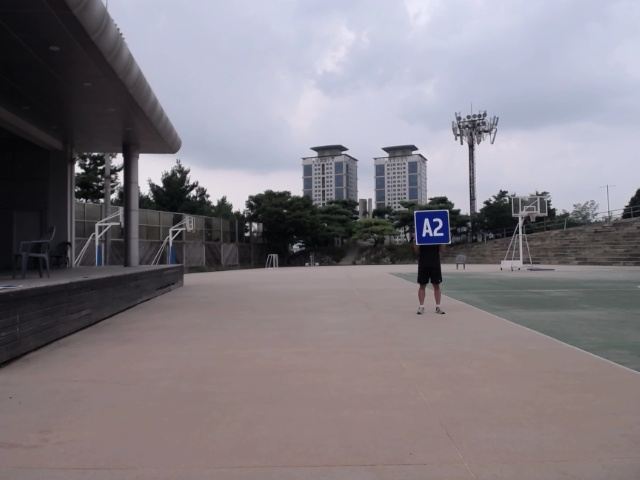delivery_a2: (414, 211, 451, 244)
